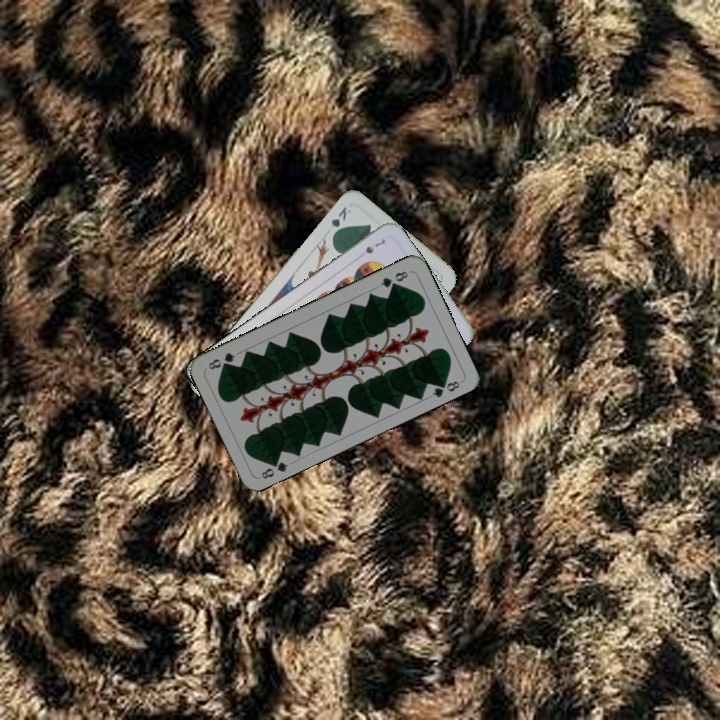G8: (257, 455, 291, 482), (377, 267, 412, 290)
GK: (326, 202, 354, 239)
S7: (361, 235, 388, 257)
